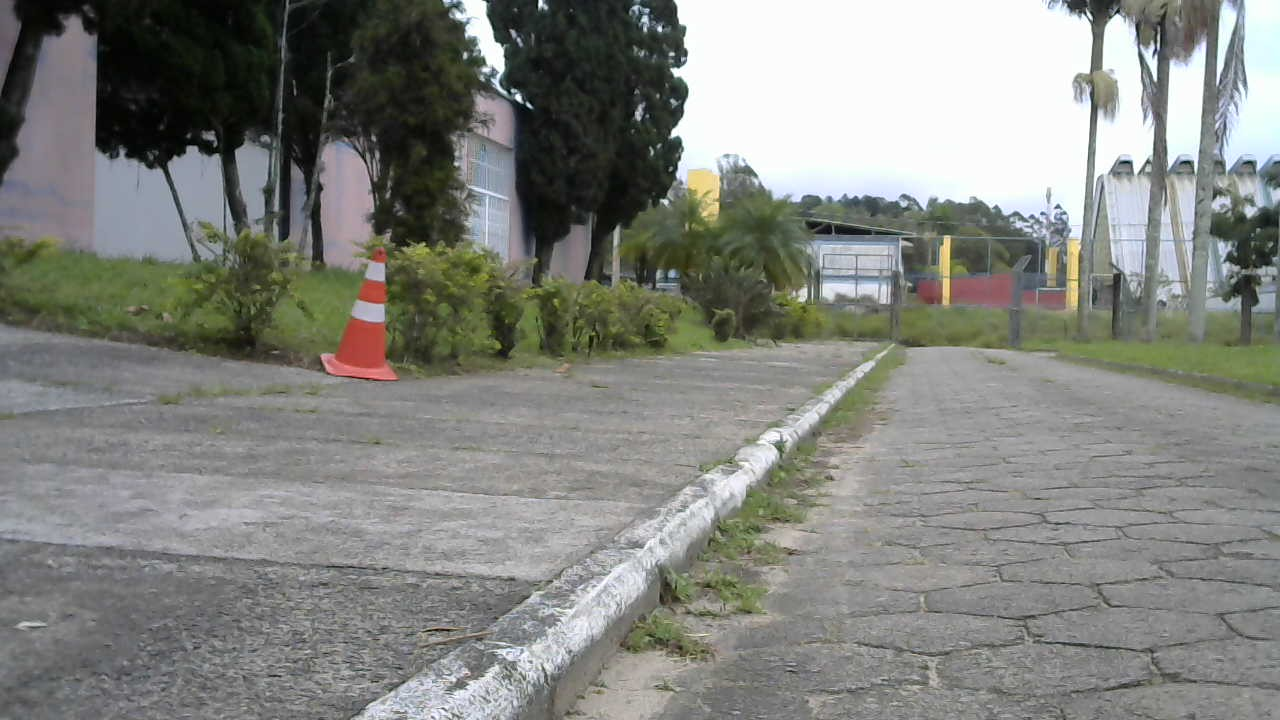cone: (321, 246, 398, 379)
